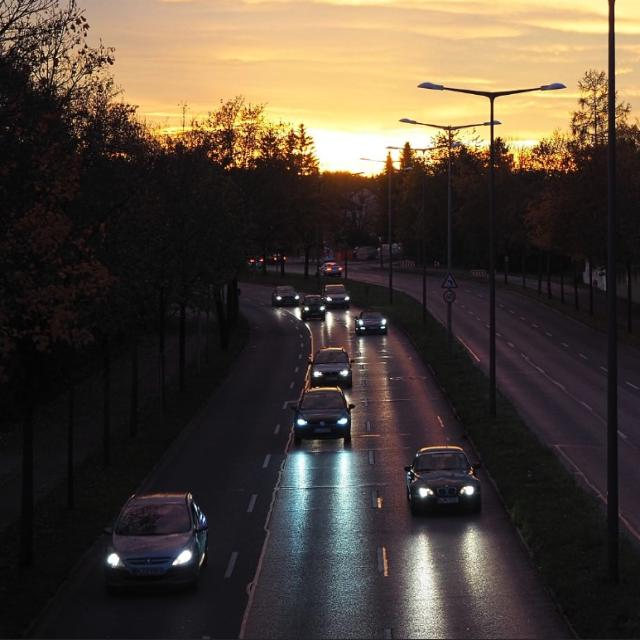car: (104, 492, 211, 586), (405, 444, 483, 514), (293, 385, 352, 443), (308, 347, 352, 385), (355, 309, 388, 334), (322, 284, 349, 309), (301, 294, 325, 320), (272, 286, 300, 306), (319, 261, 343, 278)
